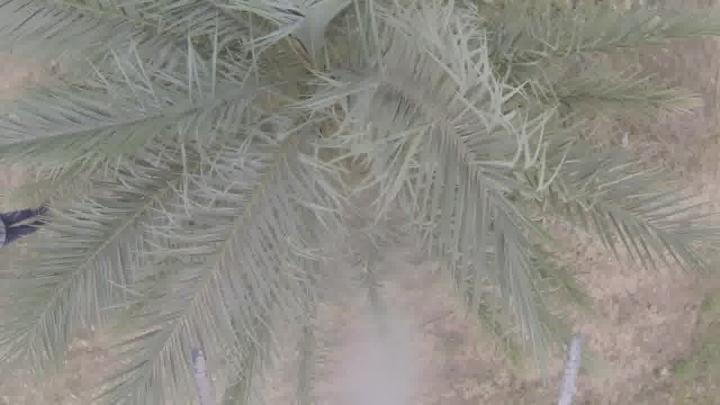Date-Palm-Crown: (81, 0, 563, 302)
